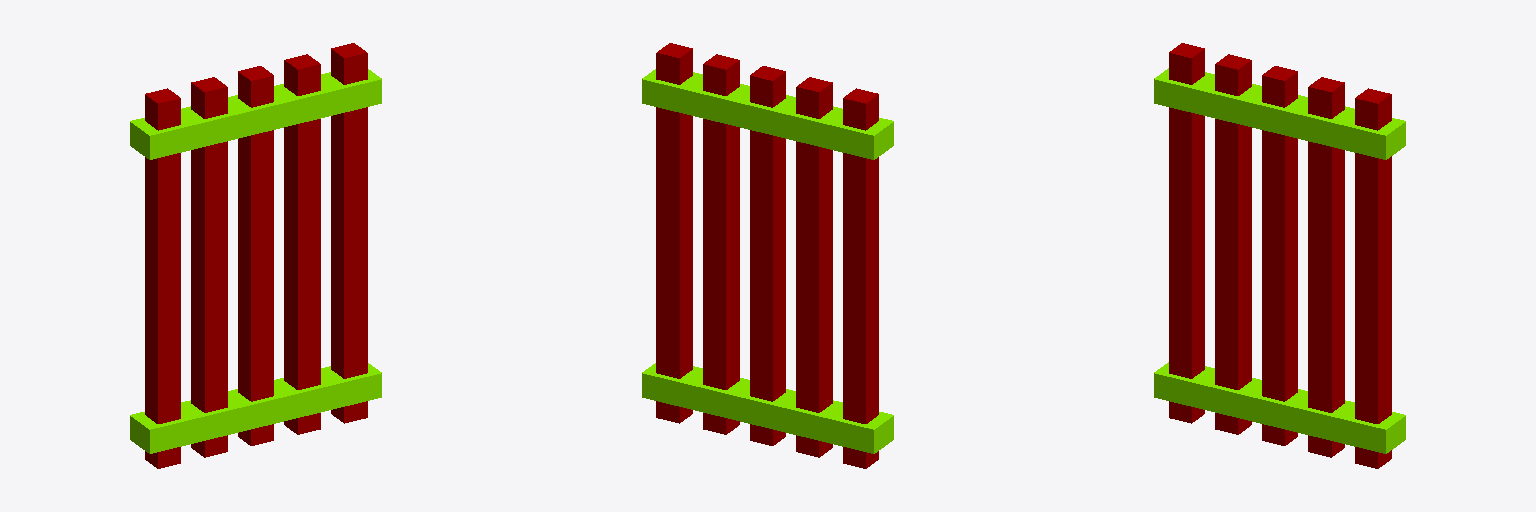
Rendered from Grate.obj.
The picture shows the model from 3 angles: view 1: azimuth 30°, elevation 25°; view 2: azimuth 150°, elevation 25°; view 3: azimuth 330°, elevation 25°; orthographic projection.
Visible parts, largest first — view 1: Grate; view 2: Grate; view 3: Grate.
Part boxes in pixels (x1,y1,x2,y2): Grate: (130,43,381,468); Grate: (642,43,893,468); Grate: (1154,43,1405,468).
Size of the model in its own units: 1 by 1.5 by 0.15.